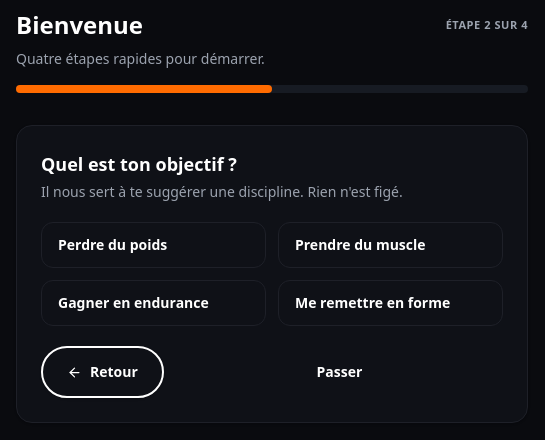
Bienvenue — navigation › choisir un objectif mène à l’étape 3
Click the button "Prendre du muscle": (390,245) [278, 222, 503, 268]
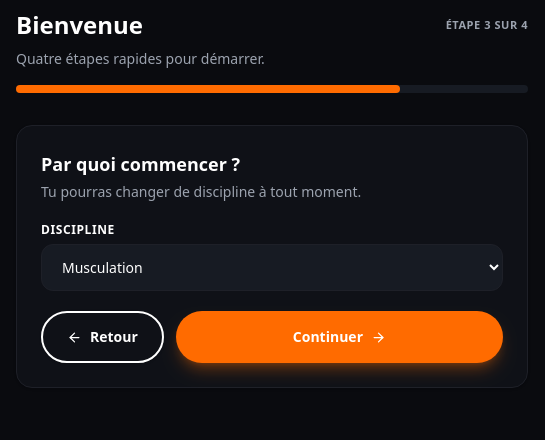
Check: the heading "Par quoi commencer ?" is shown, box [41, 152, 240, 176]
